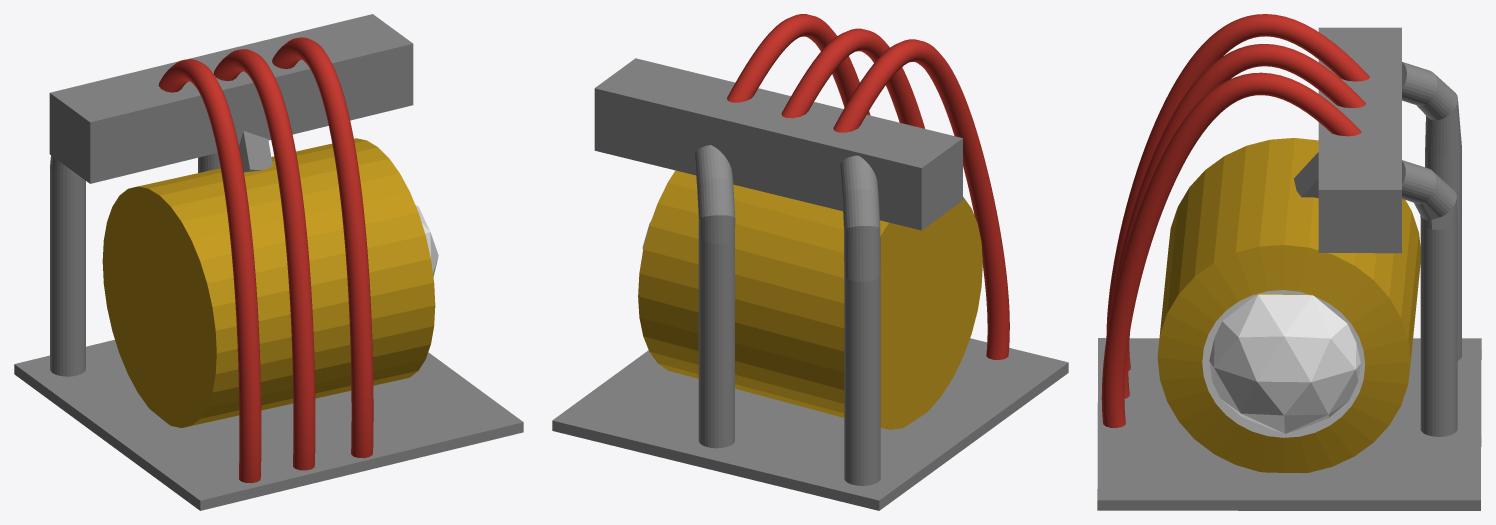
The model's file is PowerGenlevel2.fbx.
3 renders of one model, left to right at view 1: azimuth 30°, elevation 25°; view 2: azimuth 150°, elevation 25°; view 3: azimuth 270°, elevation 25°, orthographic. The views are drawn at different scales.
Parts seen in each view (by area): view 1: Cylinder, Cube, Cube.001, NurbsPath.002, NurbsPath.001, NurbsPath, Cube.002; view 2: Cube, Cylinder, Cube.001, NurbsPath.002, NurbsPath.001, NurbsPath; view 3: Cylinder, Cube, Cube.001, NurbsPath, NurbsPath.002, NurbsPath.001, Cube.002.
Part boxes in pixels (x1,y1,x2,y2): Cylinder: (102,138,438,427); Cube: (14,153,523,510); Cube.001: (49,14,413,183); NurbsPath.002: (158,59,261,482); NurbsPath.001: (213,49,315,470); NurbsPath: (272,37,373,458); Cube.002: (239,131,272,172); Cube: (552,145,1068,510); Cylinder: (638,170,982,429); Cube.001: (594,58,962,230); NurbsPath.002: (833,39,1009,359); NurbsPath.001: (781,28,924,128); NurbsPath: (727,14,870,115); Cylinder: (1157,138,1420,473); Cube: (1097,62,1481,510); Cube.001: (1318,27,1401,253); NurbsPath: (1101,72,1361,427); NurbsPath.002: (1106,14,1369,370); NurbsPath.001: (1108,44,1365,398); Cube.002: (1294,152,1318,198).
Bounding box in the file's own units: 2.02 × 2.16 × 2.
